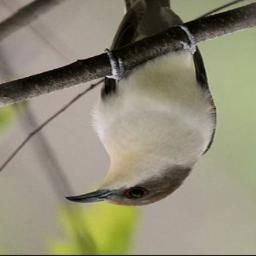Cuckoo: (63, 0, 217, 208)
